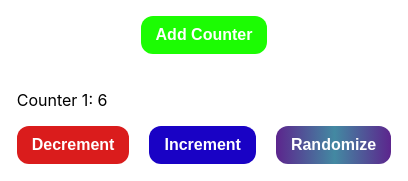
Test: Counter Component › decrements the counter when Decrement button is clicked with predefined value
Expected: the text "Counter 1: 6" is shown, [17,90,107,110]
Click the button "Decrement". click: [73, 145]
box: [17,126,129,164]
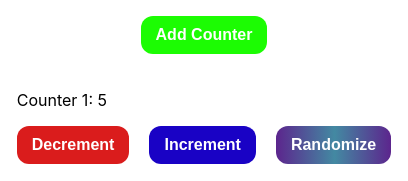
Result: the text "Counter 1: 5" is shown at [17,90,107,110]
